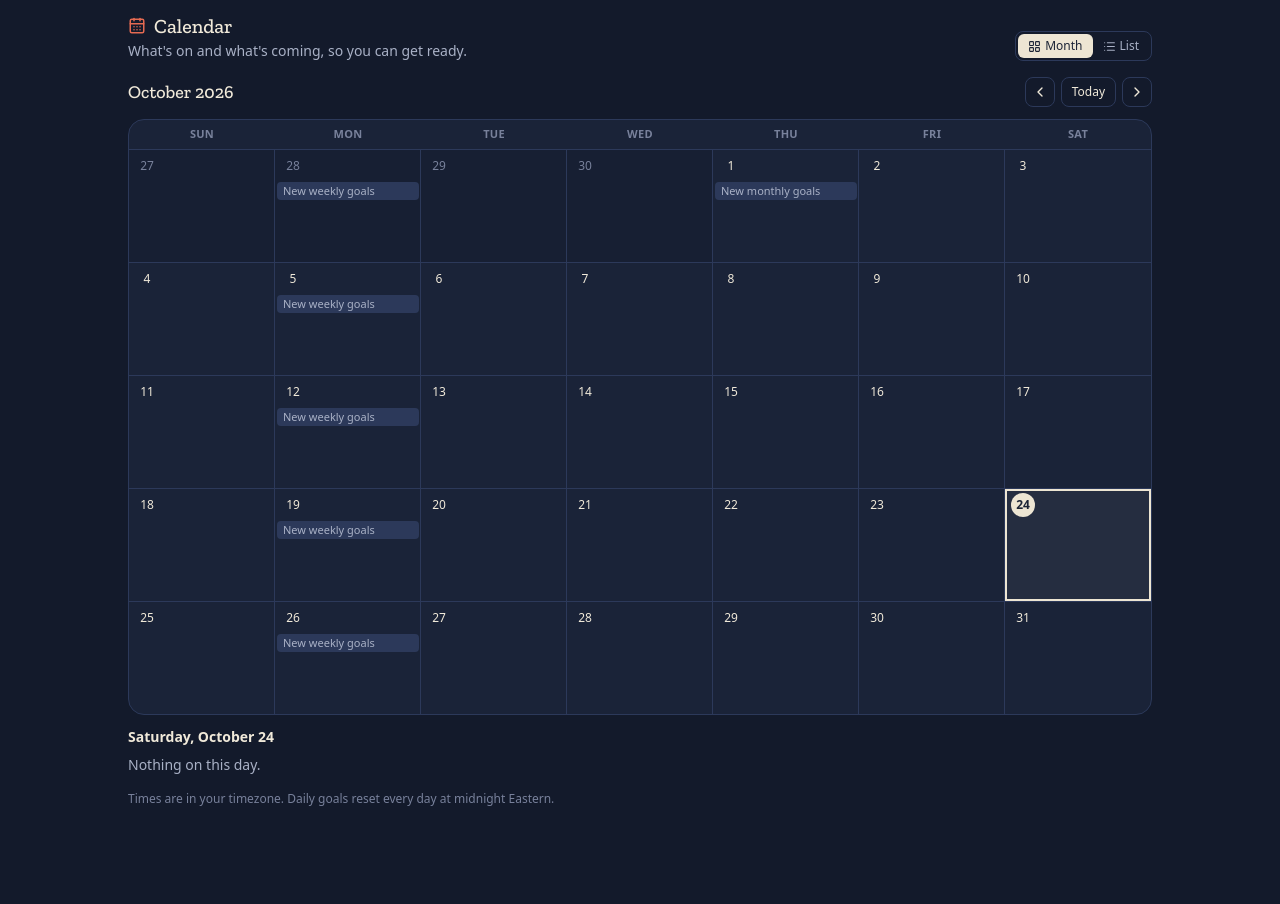
it: CalendarPage › adds goal resets, and leaves coin boosts out with the economy off
Click the button "List": (1121, 46) [1092, 34, 1149, 58]
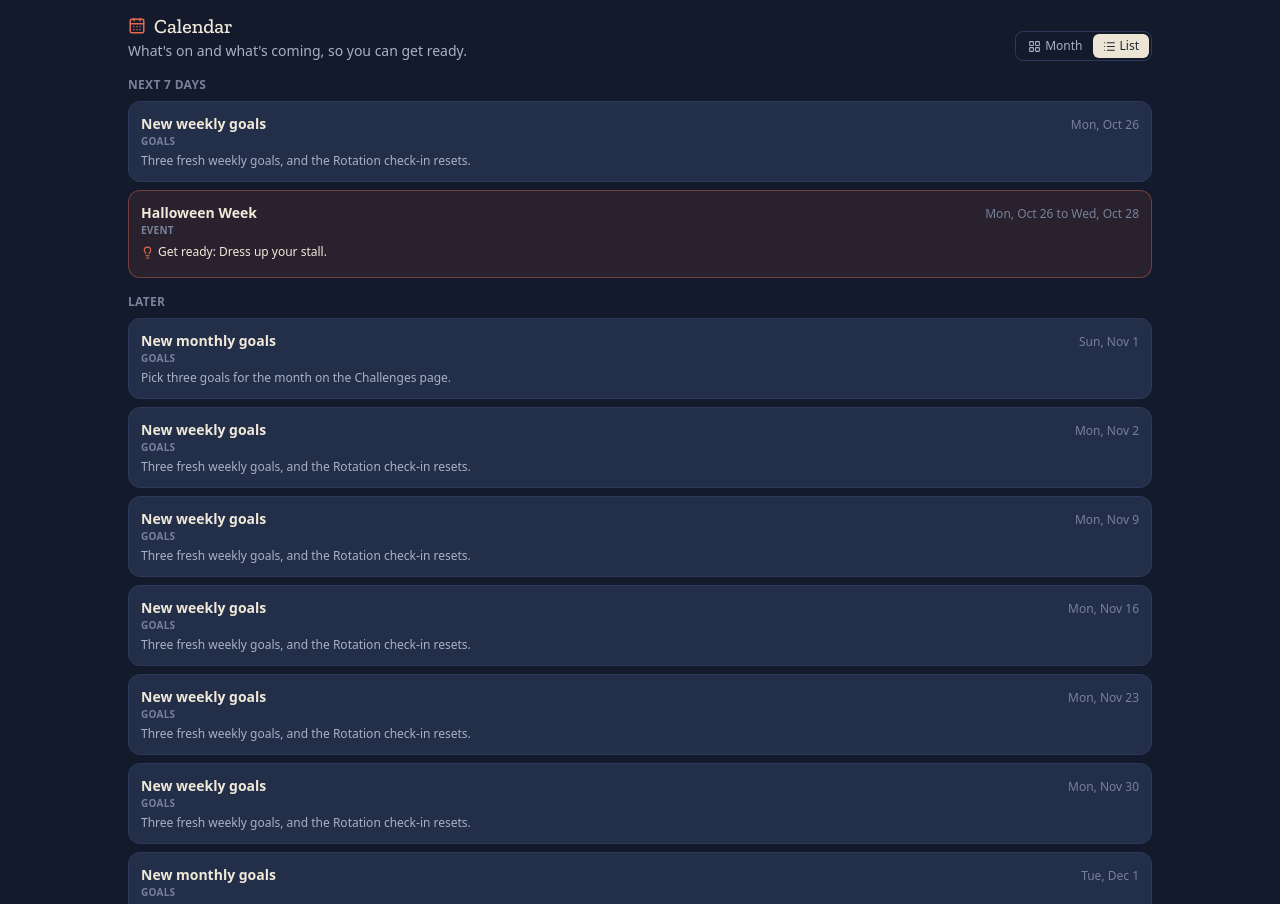
Expected: the text "New weekly goals" below "Next 7 days" is shown, [141, 114, 266, 133]
